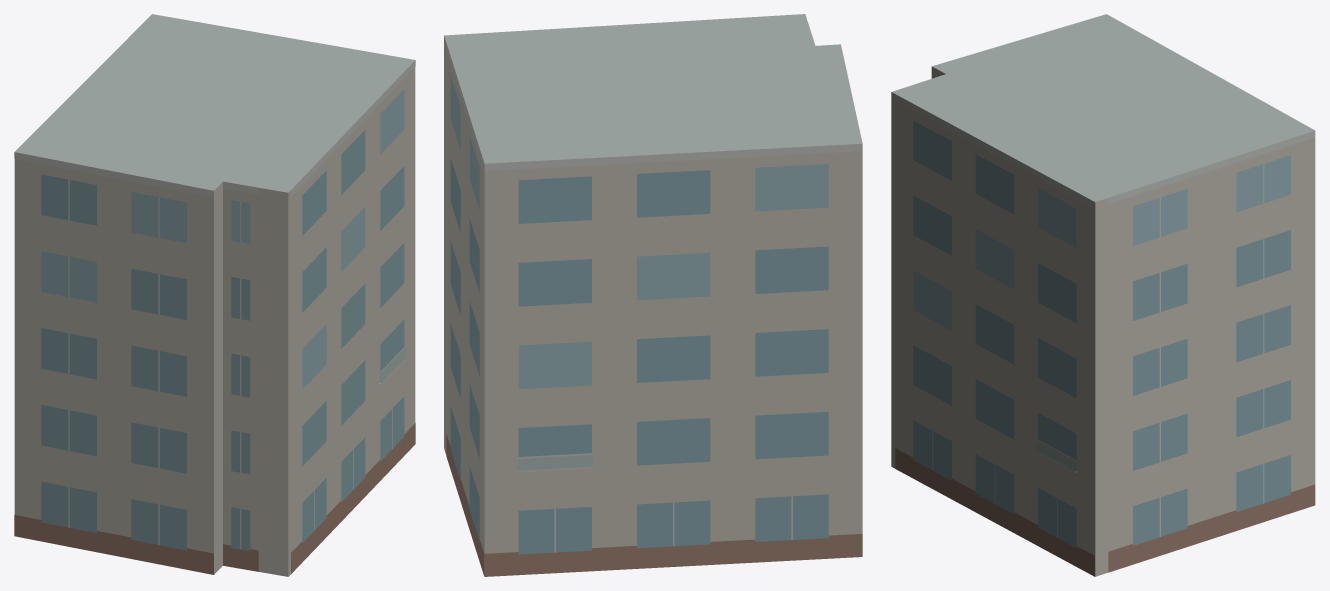
Rendered from survey-upis-32728468.glb.
3 renders of one model, left to right at view 1: azimuth 30°, elevation 25°; view 2: azimuth 150°, elevation 25°; view 3: azimuth 270°, elevation 25°, orthographic. The views are drawn at different scales.
Visible parts, largest first — view 1: survey-upis-32728468.tmp; view 2: survey-upis-32728468.tmp; view 3: survey-upis-32728468.tmp.
Boxes of the visible parts, x1,y1,x2,y2 form: survey-upis-32728468.tmp: (14,14,415,576); survey-upis-32728468.tmp: (444,14,862,576); survey-upis-32728468.tmp: (891,14,1315,576).
Size of the model in its own units: 14.86 by 13.8 by 14.15.
